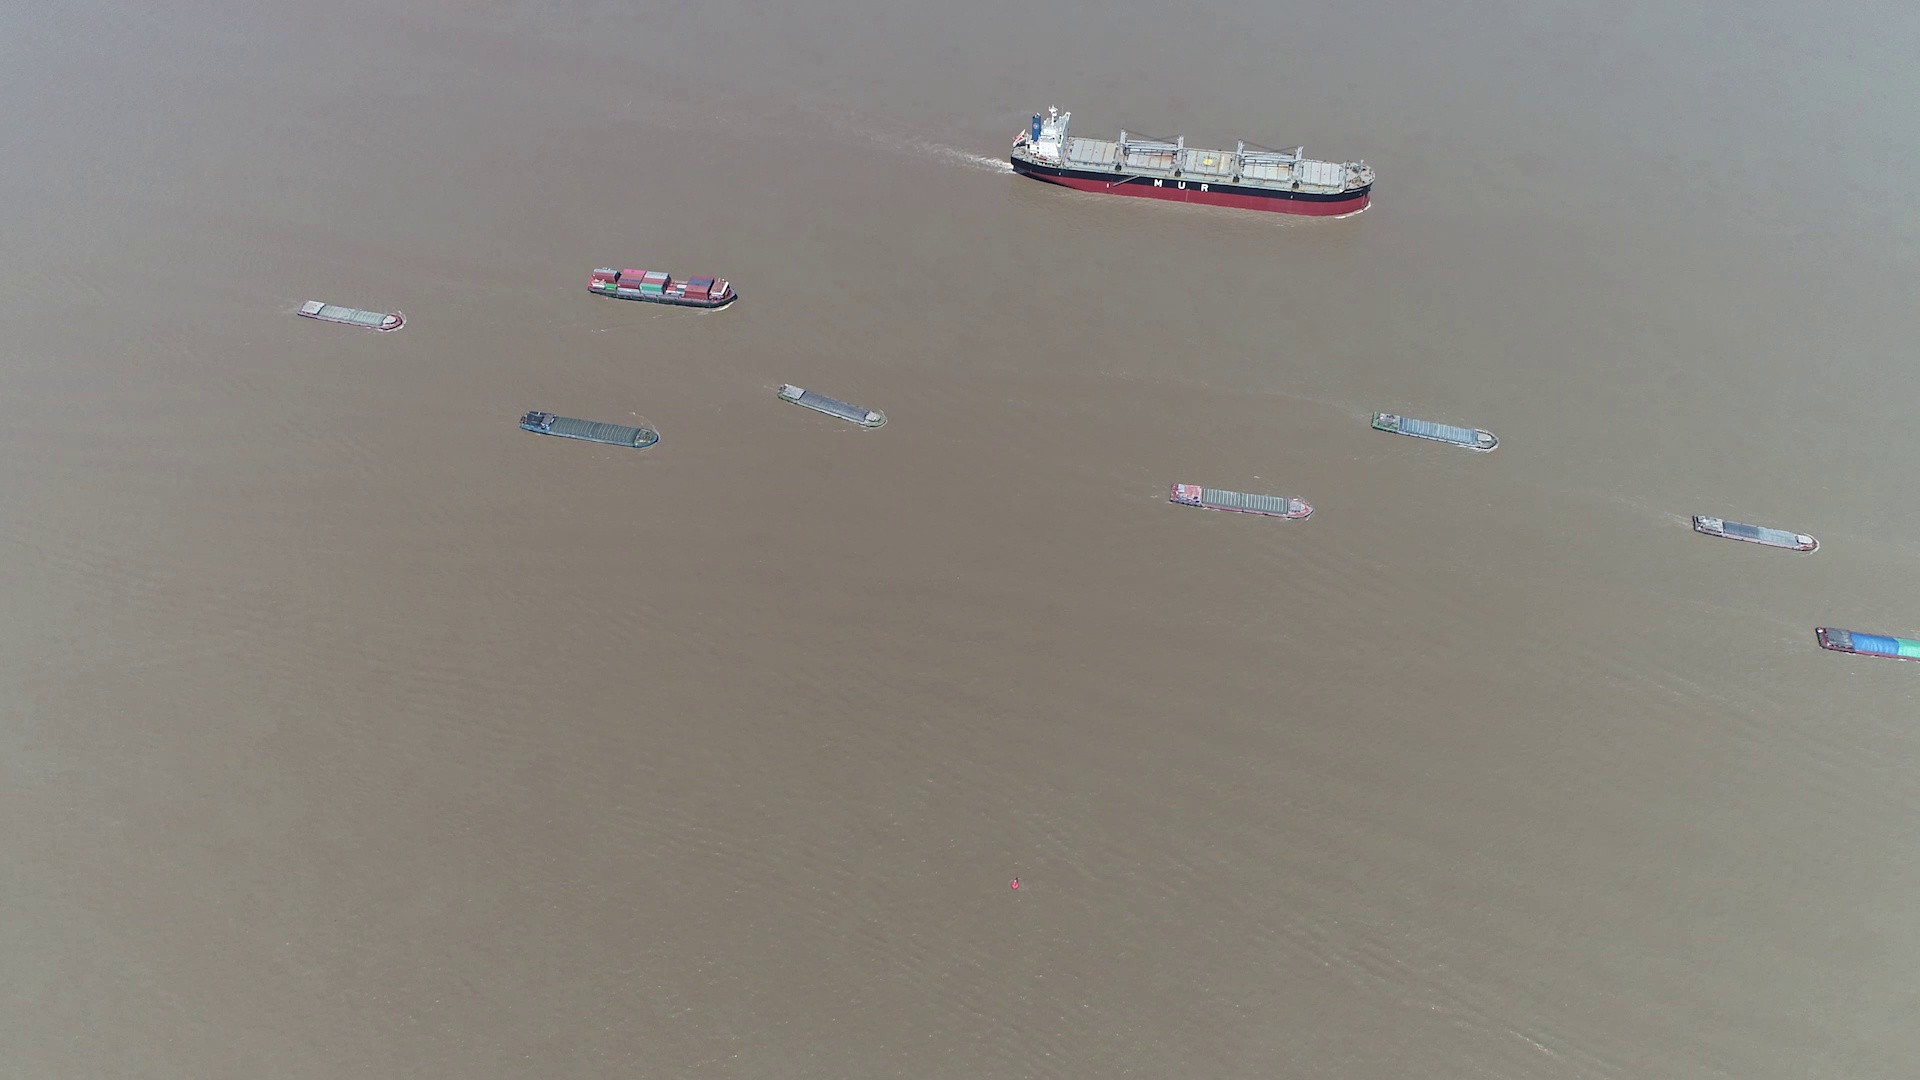ship: (1007, 111, 1371, 212), (588, 266, 741, 309), (778, 382, 889, 431), (520, 410, 659, 448), (1168, 483, 1312, 520), (1373, 410, 1499, 451), (1691, 513, 1818, 553), (1815, 624, 1920, 662), (297, 299, 406, 331)
